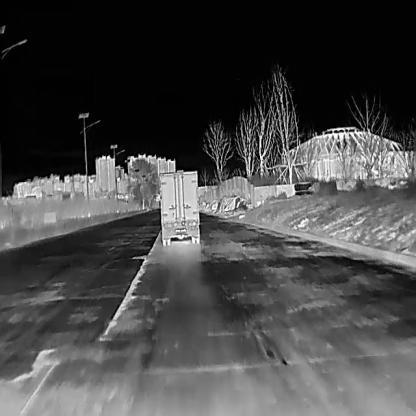car: (158, 170, 201, 245)
